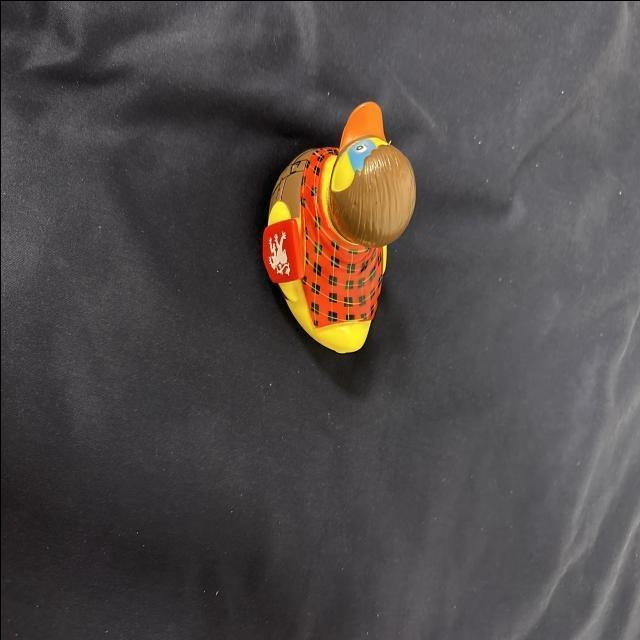rubber-duck: (262, 101, 414, 351)
